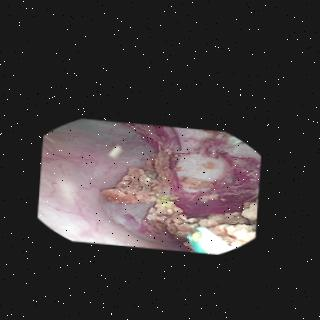stone: (104, 149, 257, 241), (183, 173, 215, 183), (206, 158, 214, 163)
tissue: (43, 117, 159, 241)
